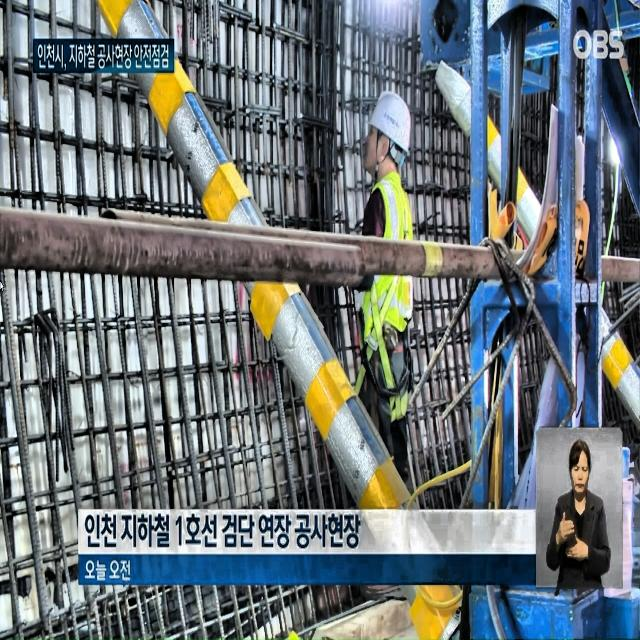safety_helmet: (364, 85, 415, 160)
safety_jacket: (359, 172, 415, 346)
